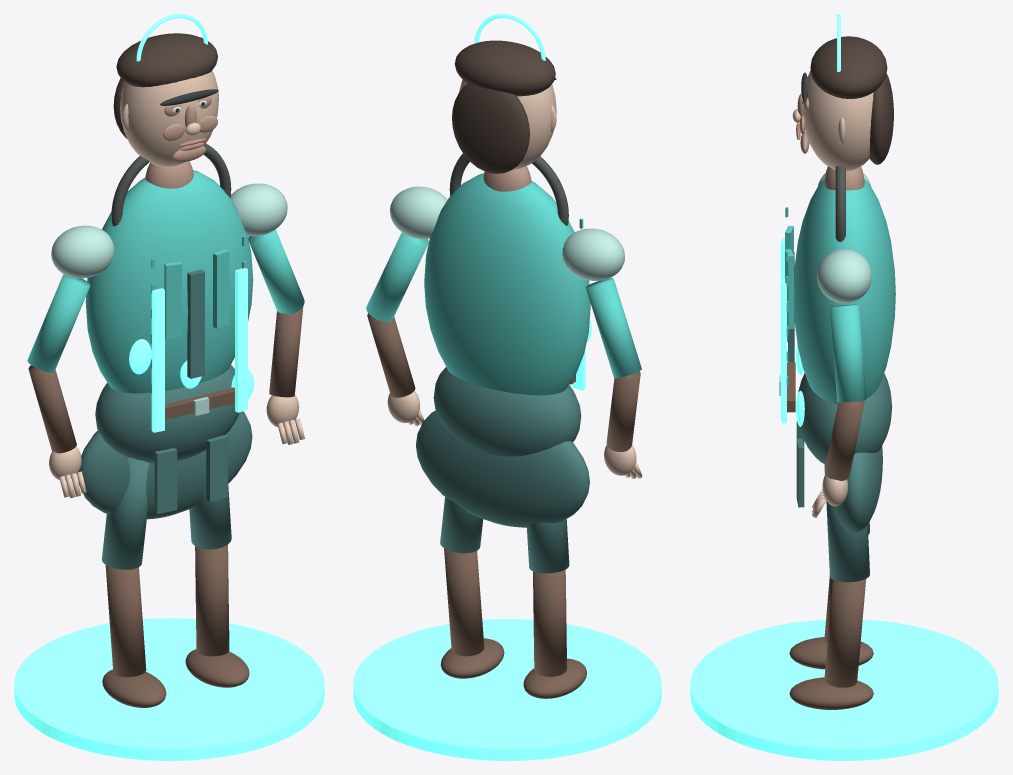
Rendered from jade-trickster.glb.
3 views of the same model, side by side, from view 1: azimuth 30°, elevation 25°; view 2: azimuth 150°, elevation 25°; view 3: azimuth 270°, elevation 25° (orthographic).
Visible parts, largest first — view 1: jade-trickster_table_scale_base, jade-trickster_ribcage, jade-trickster_pelvis, jade-trickster_coat_tail, jade-trickster_head, jade-trickster_hair_cap, jade-trickster_left_shin, jade-trickster_right_shin, jade-trickster_left_thigh, jade-trickster_left_upper_arm, jade-trickster_left_shoulder, jade-trickster_right_upper_arm (+20 smaller); view 2: jade-trickster_table_scale_base, jade-trickster_ribcage, jade-trickster_coat_tail, jade-trickster_pelvis, jade-trickster_back_hair_mass, jade-trickster_hair_cap, jade-trickster_right_shin, jade-trickster_left_shin, jade-trickster_left_upper_arm, jade-trickster_right_upper_arm, jade-trickster_left_shoulder, jade-trickster_right_shoulder (+12 smaller); view 3: jade-trickster_table_scale_base, jade-trickster_ribcage, jade-trickster_head, jade-trickster_pelvis, jade-trickster_hair_cap, jade-trickster_right_shin, jade-trickster_right_upper_arm, jade-trickster_coat_tail, jade-trickster_right_shoulder, jade-trickster_right_thigh, jade-trickster_right_forearm, jade-trickster_right_boot (+8 smaller).
Boxes of the visible parts, left/top/right/bottom form: jade-trickster_table_scale_base: left=14, top=618, right=324, bottom=760; jade-trickster_ribcage: left=85, top=170, right=253, bottom=393; jade-trickster_pelvis: left=95, top=365, right=239, bottom=463; jade-trickster_coat_tail: left=78, top=411, right=252, bottom=519; jade-trickster_head: left=120, top=70, right=218, bottom=166; jade-trickster_hair_cap: left=116, top=33, right=217, bottom=87; jade-trickster_left_shin: left=105, top=565, right=146, bottom=677; jade-trickster_right_shin: left=195, top=544, right=229, bottom=656; jade-trickster_left_thigh: left=101, top=457, right=149, bottom=569; jade-trickster_left_upper_arm: left=27, top=274, right=90, bottom=372; jade-trickster_left_shoulder: left=51, top=225, right=114, bottom=278; jade-trickster_right_upper_arm: left=248, top=229, right=304, bottom=314; jade-trickster_table_scale_base: left=353, top=619, right=661, bottom=760; jade-trickster_ribcage: left=424, top=173, right=590, bottom=395; jade-trickster_coat_tail: left=416, top=410, right=589, bottom=527; jade-trickster_pelvis: left=433, top=367, right=581, bottom=456; jade-trickster_back_hair_mass: left=452, top=83, right=529, bottom=173; jade-trickster_hair_cap: left=454, top=40, right=555, bottom=96; jade-trickster_right_shin: left=444, top=548, right=484, bottom=656; jade-trickster_left_shin: left=533, top=569, right=566, bottom=676; jade-trickster_left_upper_arm: left=585, top=278, right=641, bottom=378; jade-trickster_right_upper_arm: left=366, top=232, right=428, bottom=321; jade-trickster_left_shoulder: left=562, top=228, right=624, bottom=280; jade-trickster_right_shoulder: left=390, top=186, right=447, bottom=238; jade-trickster_table_scale_base: left=690, top=619, right=998, bottom=760; jade-trickster_ribcage: left=794, top=179, right=895, bottom=404; jade-trickster_head: left=802, top=70, right=873, bottom=171; jade-trickster_pelvis: left=798, top=373, right=892, bottom=464; jade-trickster_hair_cap: left=810, top=36, right=887, bottom=98; jade-trickster_right_shin: left=824, top=579, right=866, bottom=687; jade-trickster_right_upper_arm: left=830, top=304, right=866, bottom=402; jade-trickster_coat_tail: left=824, top=446, right=882, bottom=532; jade-trickster_right_shoulder: left=817, top=249, right=871, bottom=303; jade-trickster_right_thigh: left=824, top=464, right=869, bottom=582; jade-trickster_right_forearm: left=824, top=400, right=864, bottom=480; jade-trickster_right_boot: left=789, top=677, right=873, bottom=709.
Size of the model in its own units: 0.8538 by 2.04 by 0.84.
